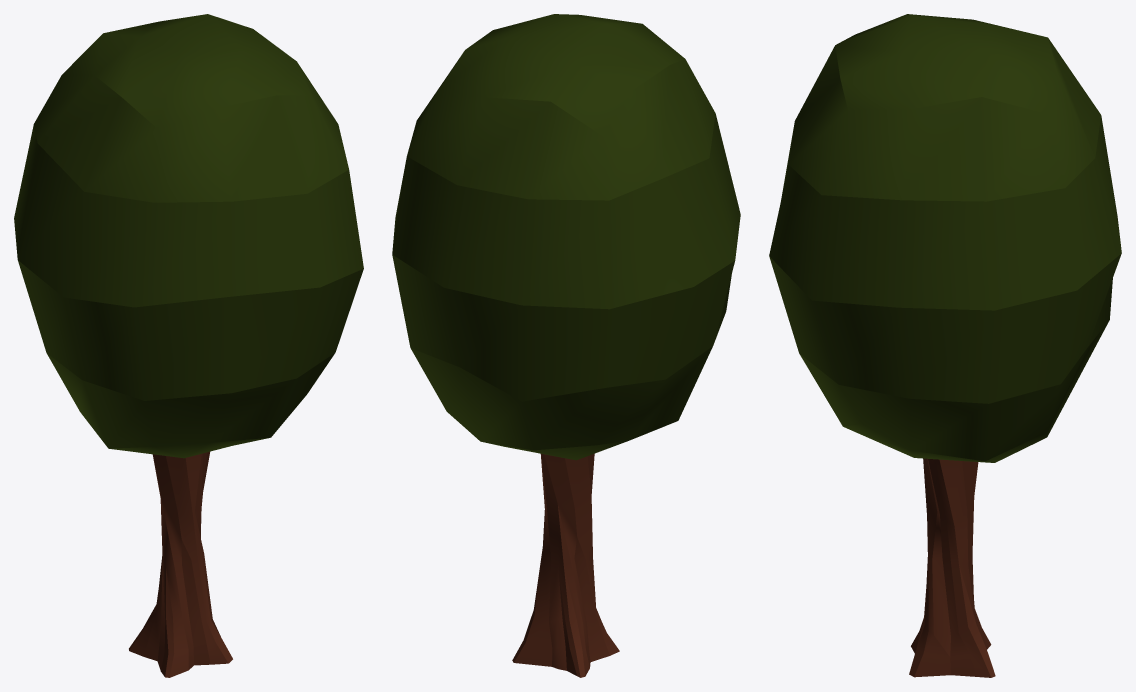
The model's file is Tree_2_High.fbx.
3 renders of one model, left to right at view 1: azimuth 30°, elevation 25°; view 2: azimuth 150°, elevation 25°; view 3: azimuth 270°, elevation 25°, orthographic. The views are drawn at different scales.
Visible parts, largest first — view 1: Tree_2_High; view 2: Tree_2_High; view 3: Tree_2_High.
Boxes of the visible parts, left/top/right/bottom form: Tree_2_High: left=14, top=14, right=363, bottom=677; Tree_2_High: left=392, top=14, right=740, bottom=677; Tree_2_High: left=769, top=14, right=1121, bottom=677.
Size of the model in its own units: 101 by 204 by 102.
